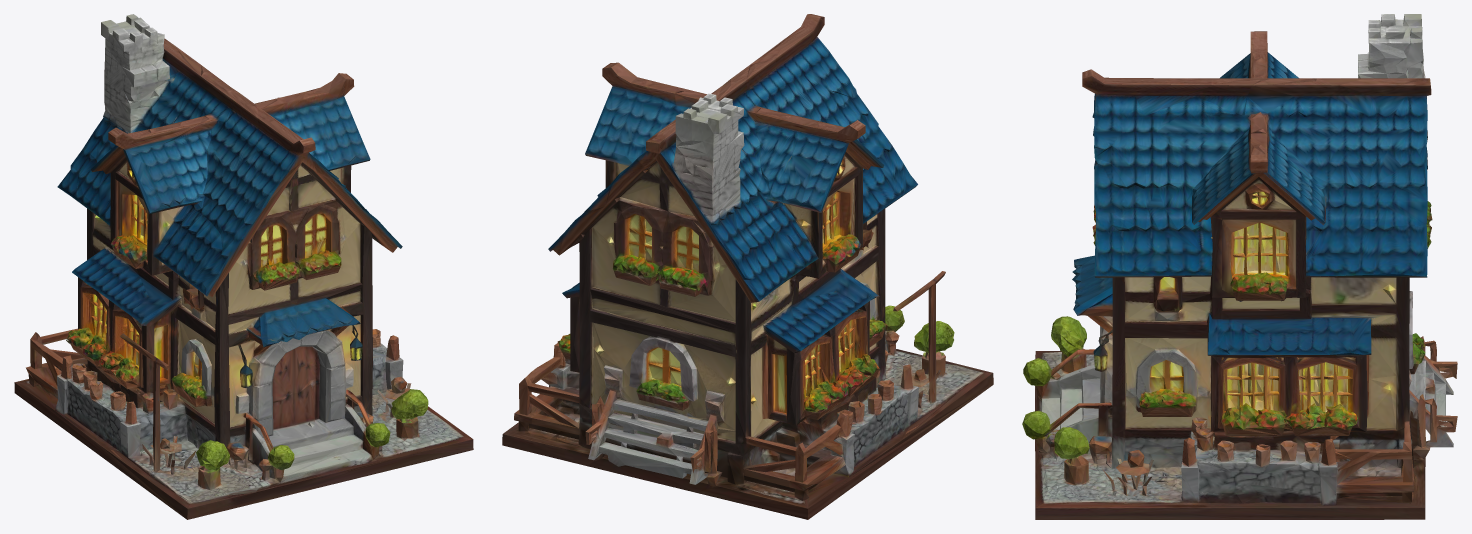
The model's file is Cottage_optimized.fbx.
The picture shows the model from 3 angles, left to right: view 1: azimuth 30°, elevation 25°; view 2: azimuth 150°, elevation 25°; view 3: azimuth 270°, elevation 25°; orthographic projection. The views are drawn at different scales.
Parts seen in each view (by area): view 1: Mesh_low; view 2: Mesh_low; view 3: Mesh_low.
Part boxes in pixels (x1,y1,x2,y2): Mesh_low: [14, 14, 473, 519]; Mesh_low: [502, 14, 993, 519]; Mesh_low: [1022, 14, 1457, 519].
Bounding box in the file's own units: 160 × 188 × 188.
Materials: 1 (1 with a texture image).
